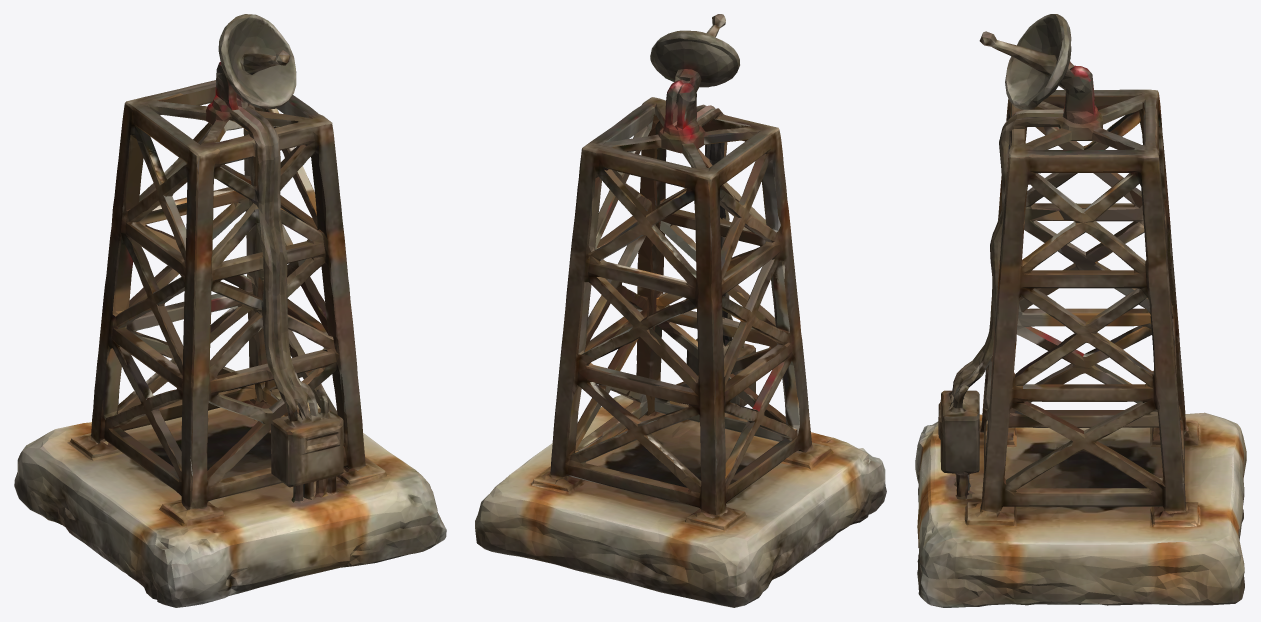
Rendered from tower.glb.
The picture shows the model from 3 angles, left to right: view 1: azimuth 30°, elevation 25°; view 2: azimuth 150°, elevation 25°; view 3: azimuth 270°, elevation 25°; orthographic projection. The views are drawn at different scales.
Parts seen in each view (by area): view 1: tmpfwx8zhd3.ply; view 2: tmpfwx8zhd3.ply; view 3: tmpfwx8zhd3.ply.
Part boxes in pixels (x1=…): tmpfwx8zhd3.ply: x1=14, y1=14, x2=446, y2=607; tmpfwx8zhd3.ply: x1=475, y1=14, x2=886, y2=607; tmpfwx8zhd3.ply: x1=915, y1=14, x2=1246, y2=607.
Size of the model in its own units: 1 by 1.73 by 0.9931.
1 material, 1 textured.
